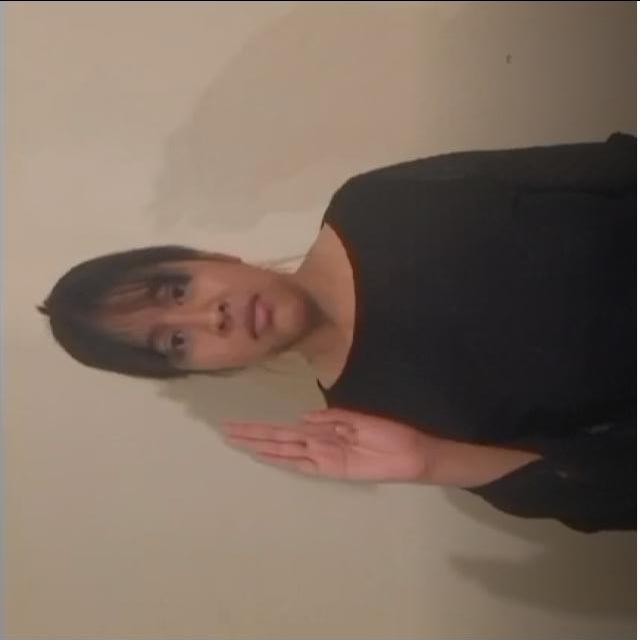F: (206, 391, 438, 484)
